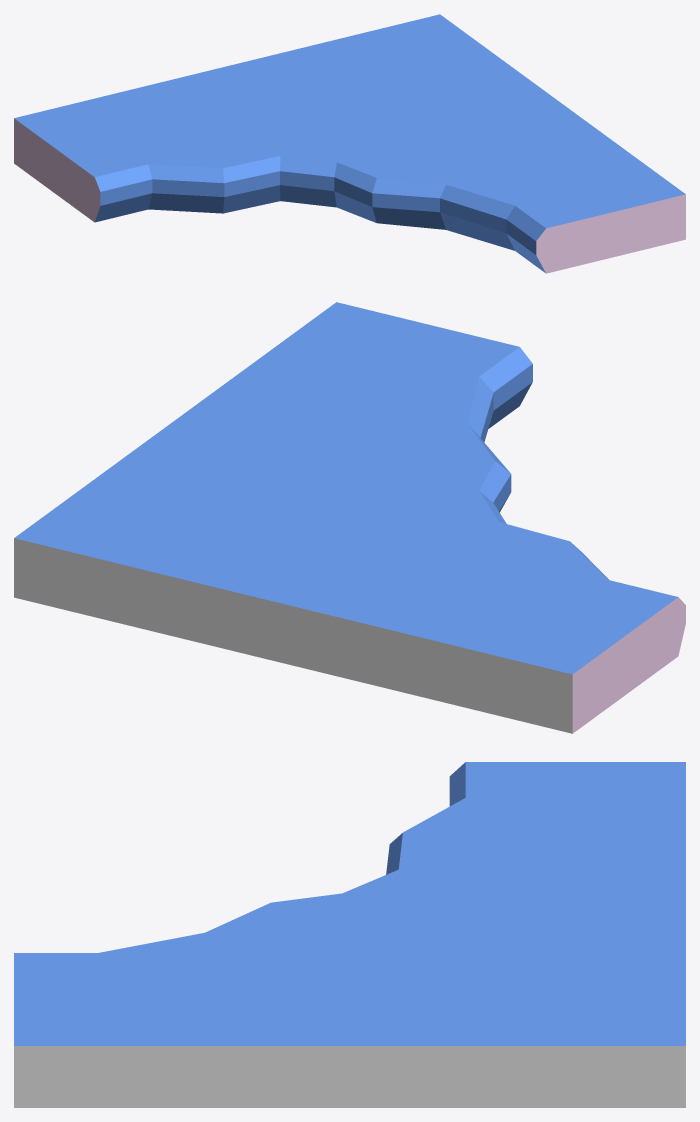
The model's file is Iceberg_Curve_Inner_4x4_2.glb.
The picture shows the model from 3 angles, top to bottom: view 1: azimuth 30°, elevation 25°; view 2: azimuth 150°, elevation 25°; view 3: azimuth 270°, elevation 25°; orthographic projection. The views are drawn at different scales.
Visible parts, largest first — view 1: Iceberg_Curve_Inner_4x4_2; view 2: Iceberg_Curve_Inner_4x4_2; view 3: Iceberg_Curve_Inner_4x4_2.
Boxes of the visible parts, box(x1,y1,x2,y2) form: Iceberg_Curve_Inner_4x4_2: box(14, 14, 685, 273); Iceberg_Curve_Inner_4x4_2: box(14, 302, 685, 733); Iceberg_Curve_Inner_4x4_2: box(14, 762, 685, 1107).
Size of the model in its own units: 400 by 40.63 by 400.
